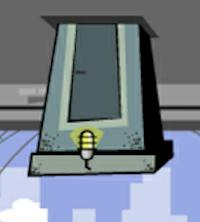ImgView: (1, 1, 199, 221)
